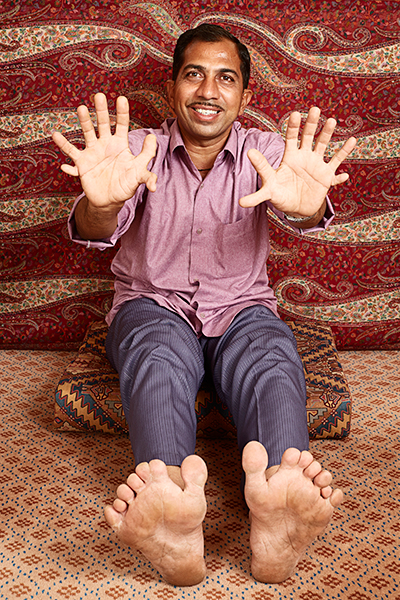finger: (93, 89, 115, 141), (324, 137, 361, 167), (312, 119, 338, 158), (52, 131, 85, 161), (299, 108, 322, 151), (79, 105, 101, 148), (281, 111, 302, 155), (115, 96, 131, 146)
